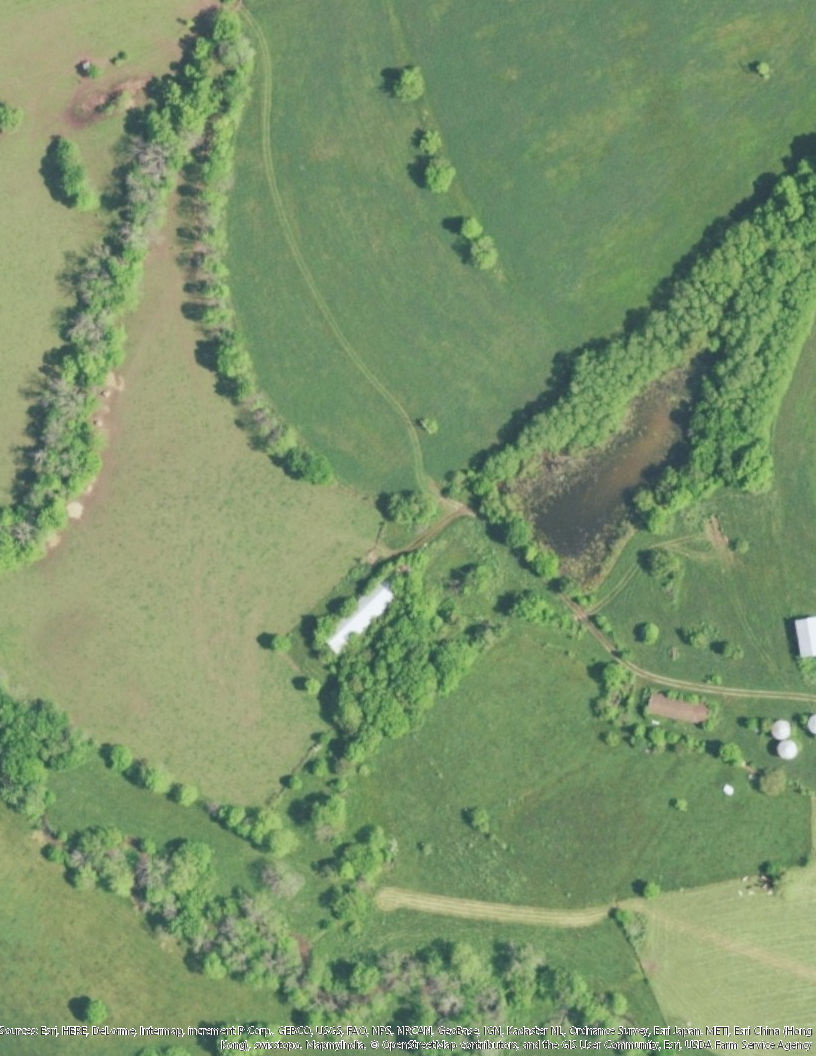cafo: (318, 569, 403, 659)
